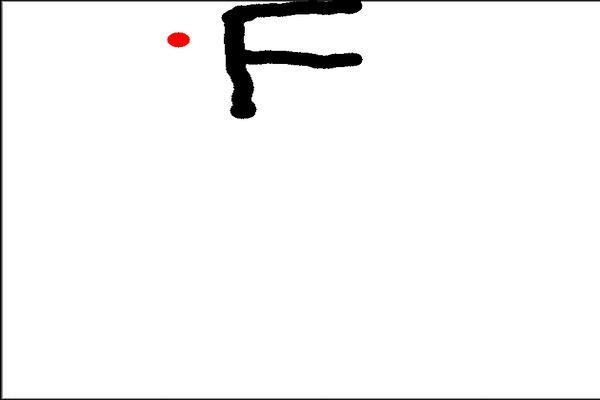F: (216, 1, 367, 121)
